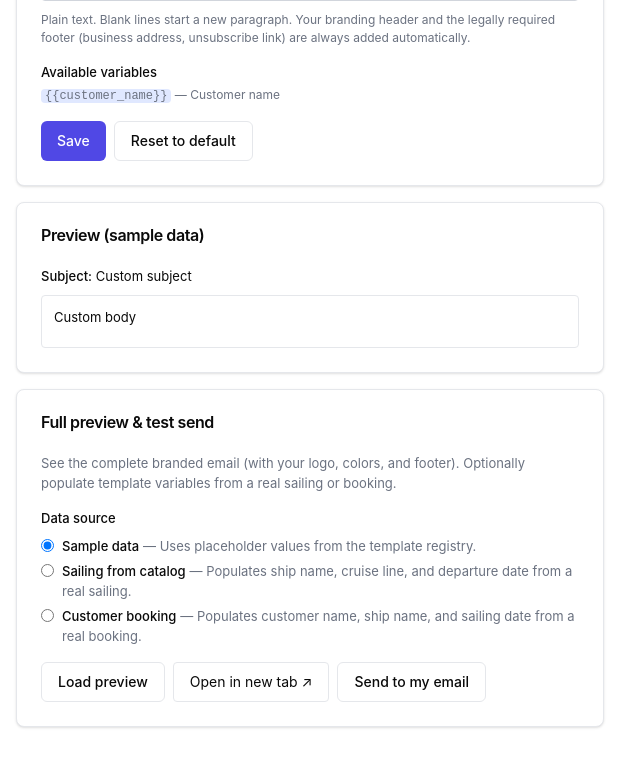
Test: EmailTemplatesSettingsPage — sailing cascade (#1812) › clears ship+date children on line change and enables preview only once a date is chosen
(page scrolled)
Click the radio button labelled "Sailing from catalog" at (48, 570), box [41,564,54,577]
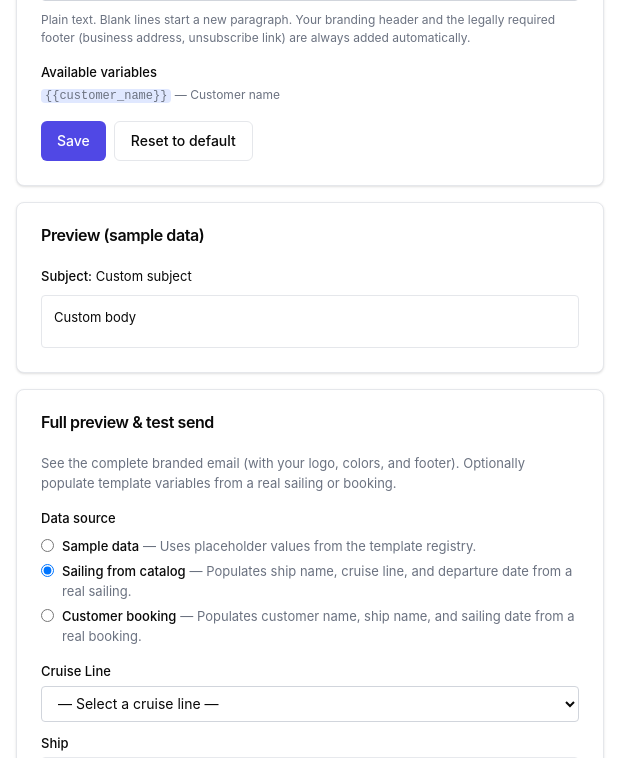
Select "Royal Seas" in the 1st dropdown at (310, 704), box [41,686,579,722]
(page scrolled)
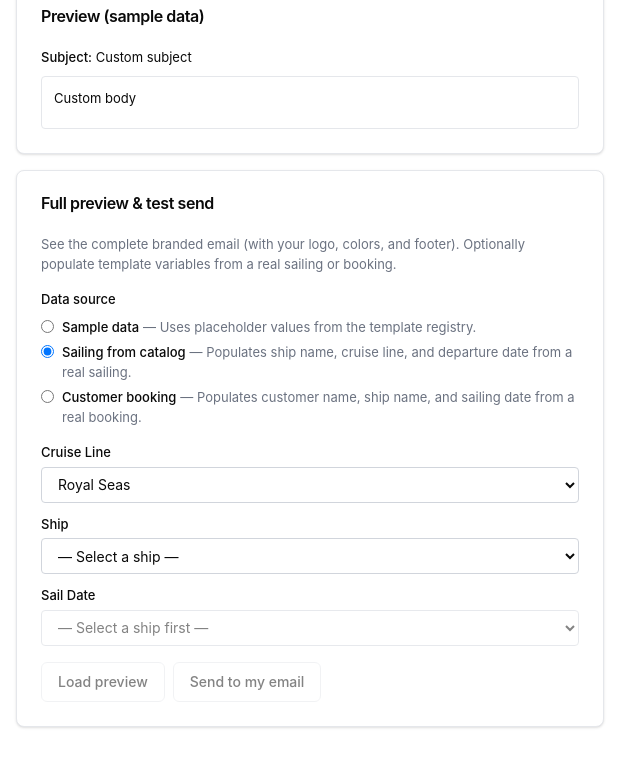
Now the button "Load preview" is disabled, box [41,662,165,702]
Now the 2nd dropdown is enabled
Select "Wanderer" in the 2nd dropdown at (310, 556), box [41,538,579,574]
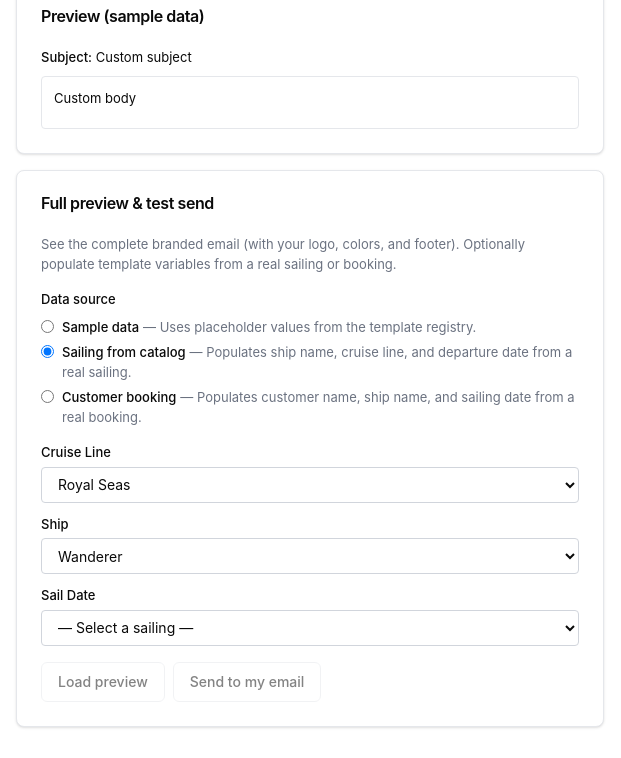
Now the button "Load preview" is disabled, box [41,662,165,702]
Now the dropdown below "Sail Date" is enabled
Select "2027-03-01 — Miami — 7n" in the dropdown below "Sail Date" at (310, 628), box [41,610,579,646]
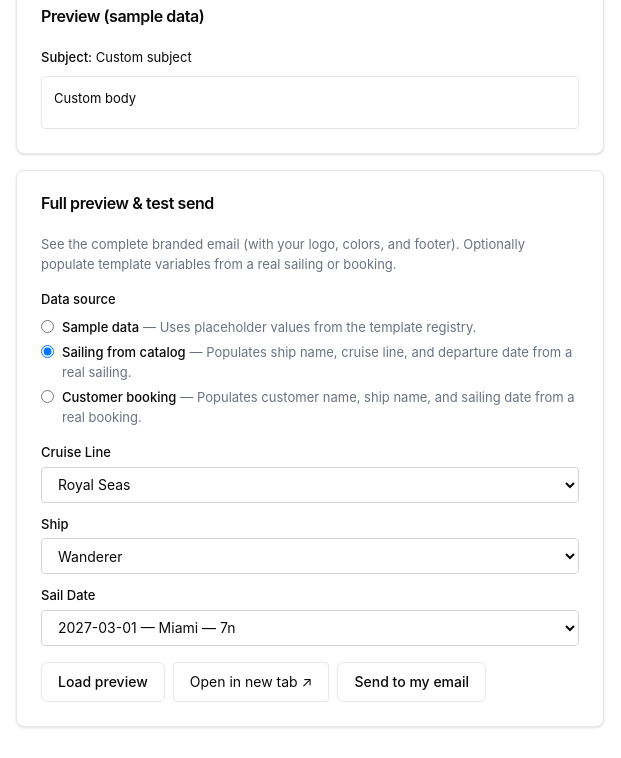
Now the button "Load preview" is enabled, box [41,662,165,702]
Select "— Select a cruise line —" in the 1st dropdown at (310, 484), box [41,466,579,502]
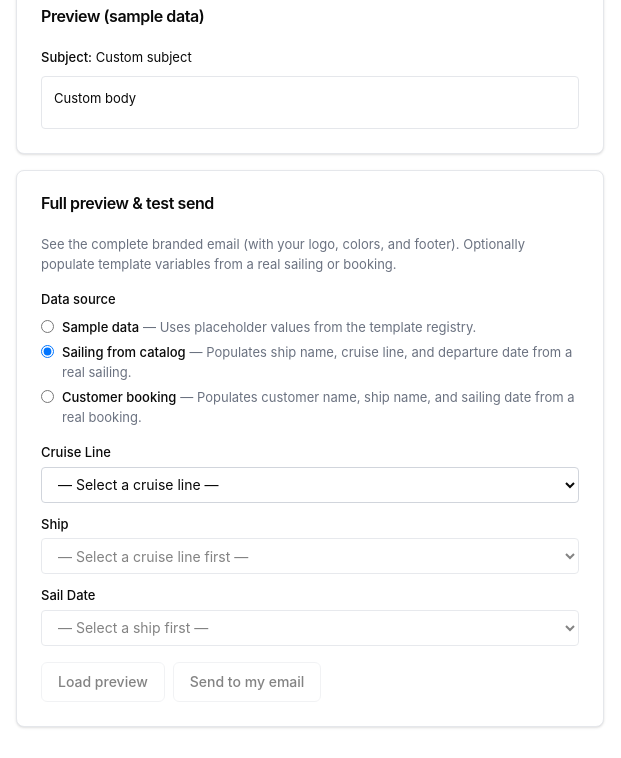
Now the button "Load preview" is disabled, box [41,662,165,702]
Now the 2nd dropdown is disabled, box [41,538,579,574]
Now the dropdown below "Sail Date" is disabled, box [41,610,579,646]
